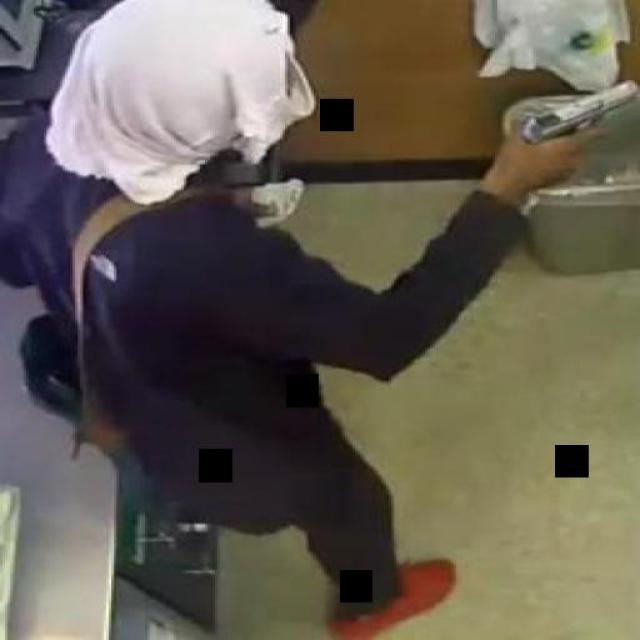gun: (515, 75, 635, 174)
